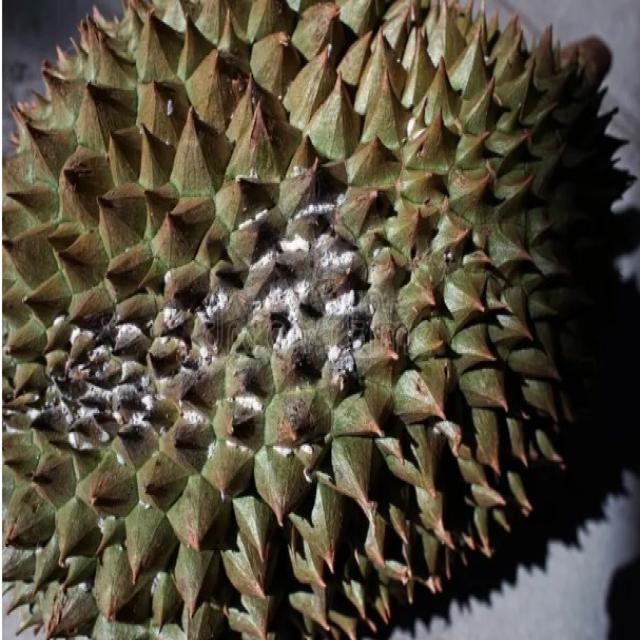defective: (0, 4, 630, 631)
